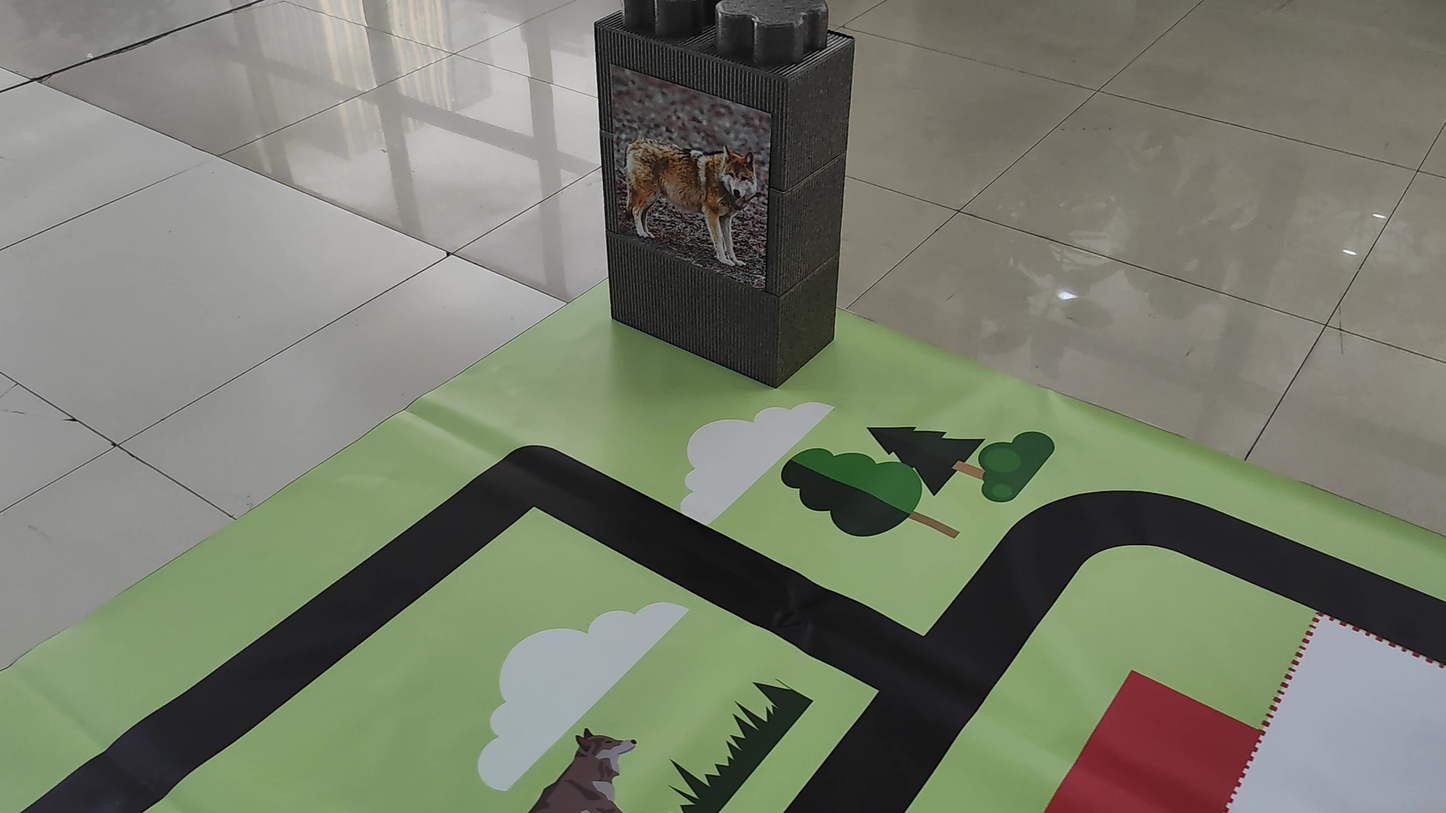wolf: (600, 87, 774, 272)
